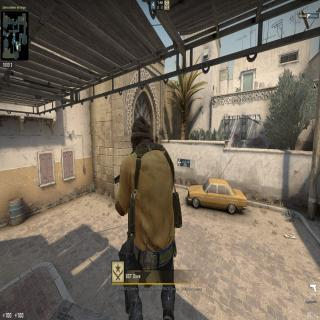T-Head: (130, 113, 152, 150)
